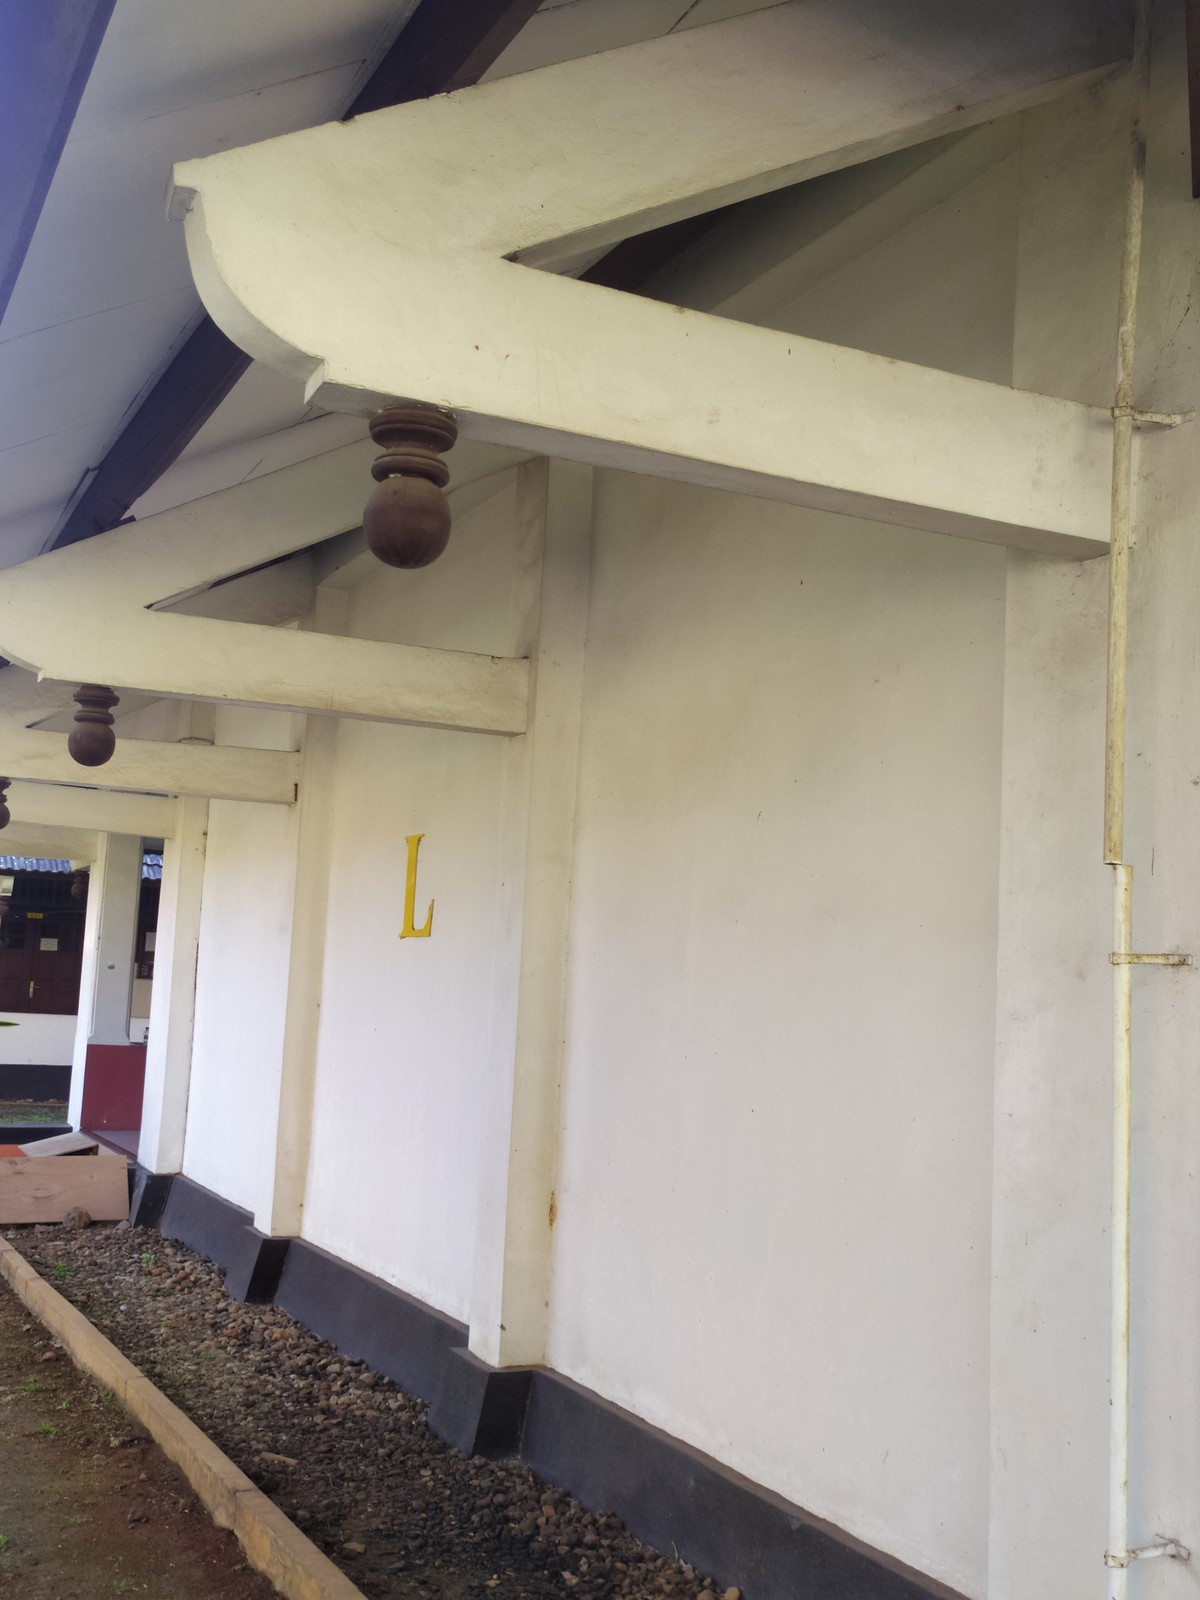concrete beam: (473, 272, 1151, 572), (137, 617, 550, 757)
concrete column: (955, 152, 1194, 1600), (458, 474, 610, 1377), (246, 808, 337, 1238), (66, 862, 144, 1125)
